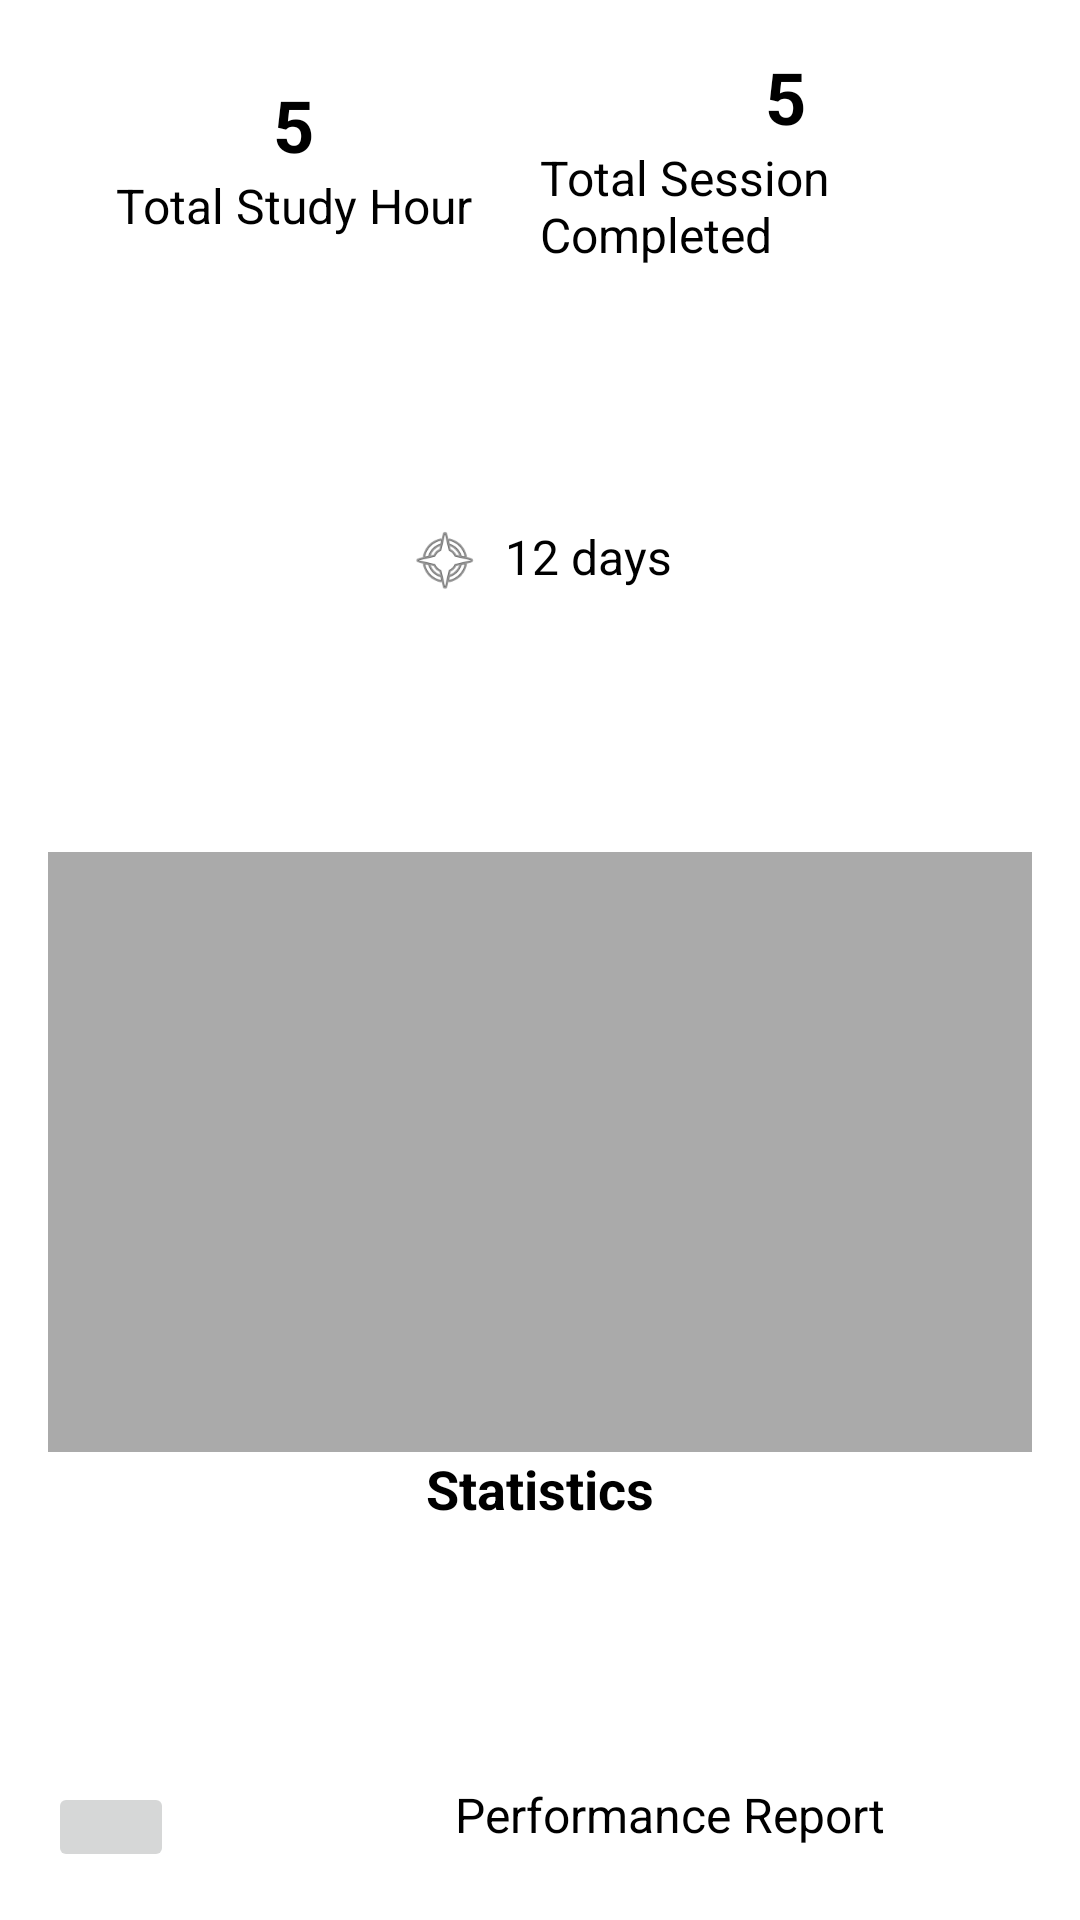

Icons on this 1080px×1920px Android screen, each with its box as (x1, y1, x2, y2):
compass: (416, 532, 473, 589)
